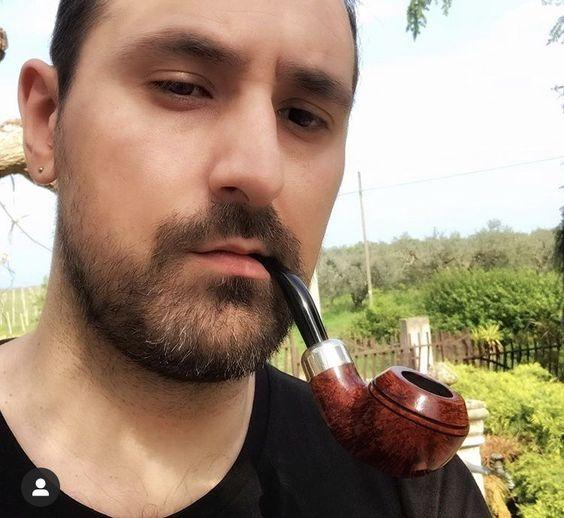trubka: (250, 253, 468, 476)
